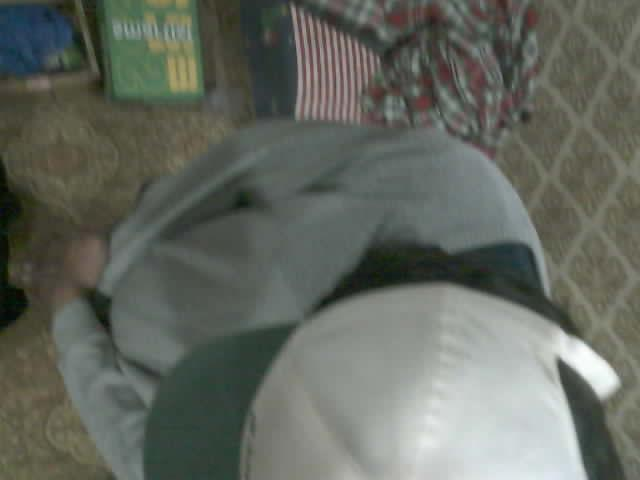cap: (141, 281, 625, 479)
